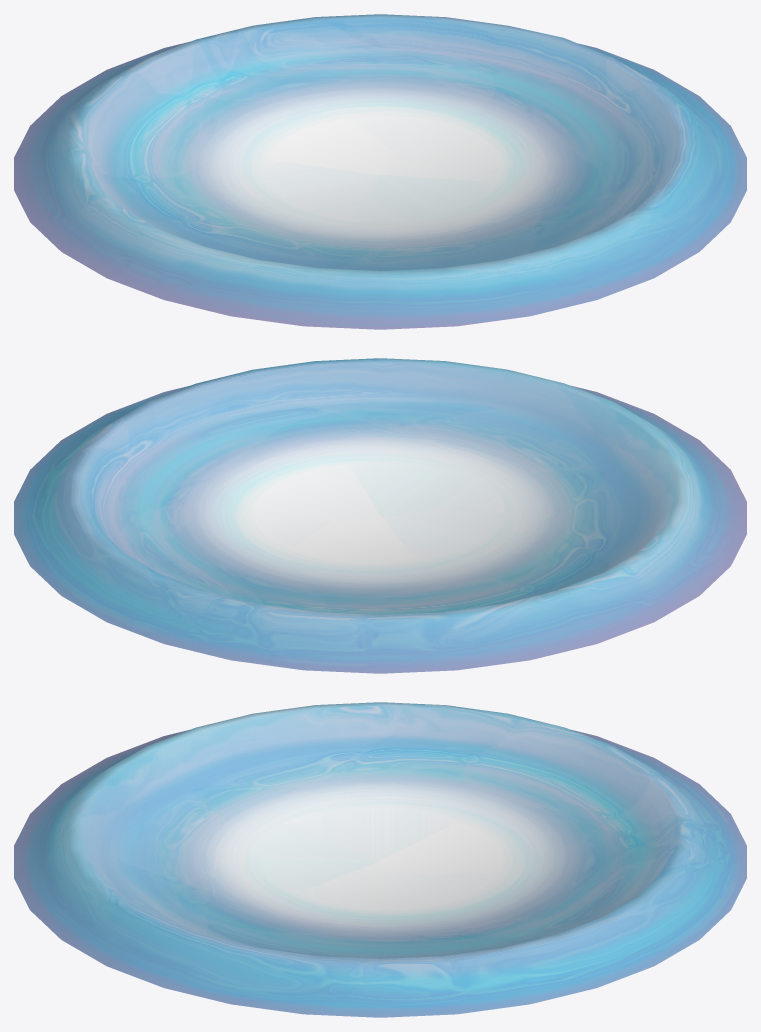
The model's file is ripple2.FBX.
The picture shows the model from 3 angles, top to bottom: view 1: azimuth 30°, elevation 25°; view 2: azimuth 150°, elevation 25°; view 3: azimuth 270°, elevation 25°; orthographic projection.
Parts seen in each view (by area): view 1: Ripple; view 2: Ripple; view 3: Ripple.
Boxes of the visible parts, x1,y1,x2,y2 form: Ripple: (14,14,746,329); Ripple: (14,358,746,673); Ripple: (14,702,746,1017).
Size of the model in its own units: 3.75 by 0.1654 by 3.73.
